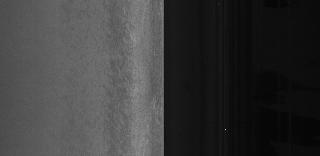silk spot: (104, 55, 140, 91)
